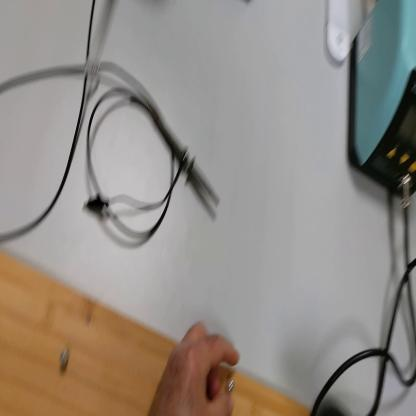hand: (150, 324, 240, 414)
oscilloscope probe tip: (131, 90, 221, 209)
welder station: (348, 3, 416, 205)
working area: (2, 240, 305, 415)
